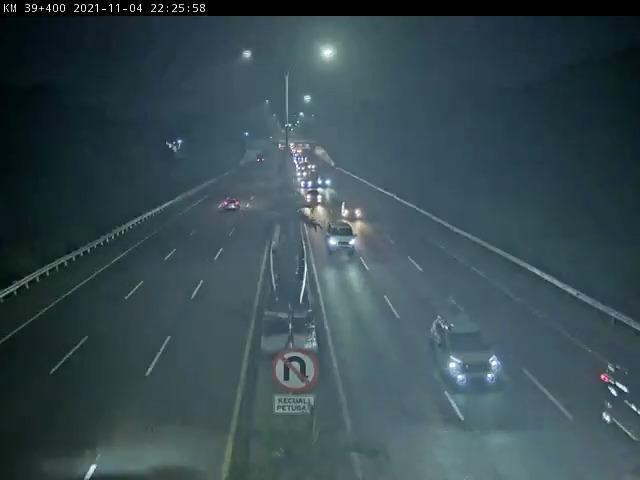car: (580, 341, 640, 453), (435, 315, 504, 392), (330, 221, 356, 257), (345, 201, 362, 219), (309, 192, 326, 207), (225, 199, 242, 211), (318, 175, 332, 187), (302, 179, 314, 188), (307, 164, 317, 171), (299, 172, 308, 179)
